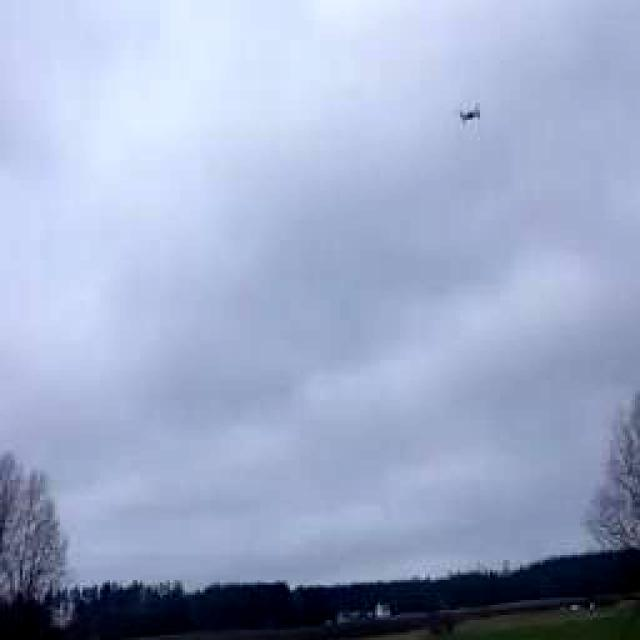bird: (432, 74, 505, 151)
